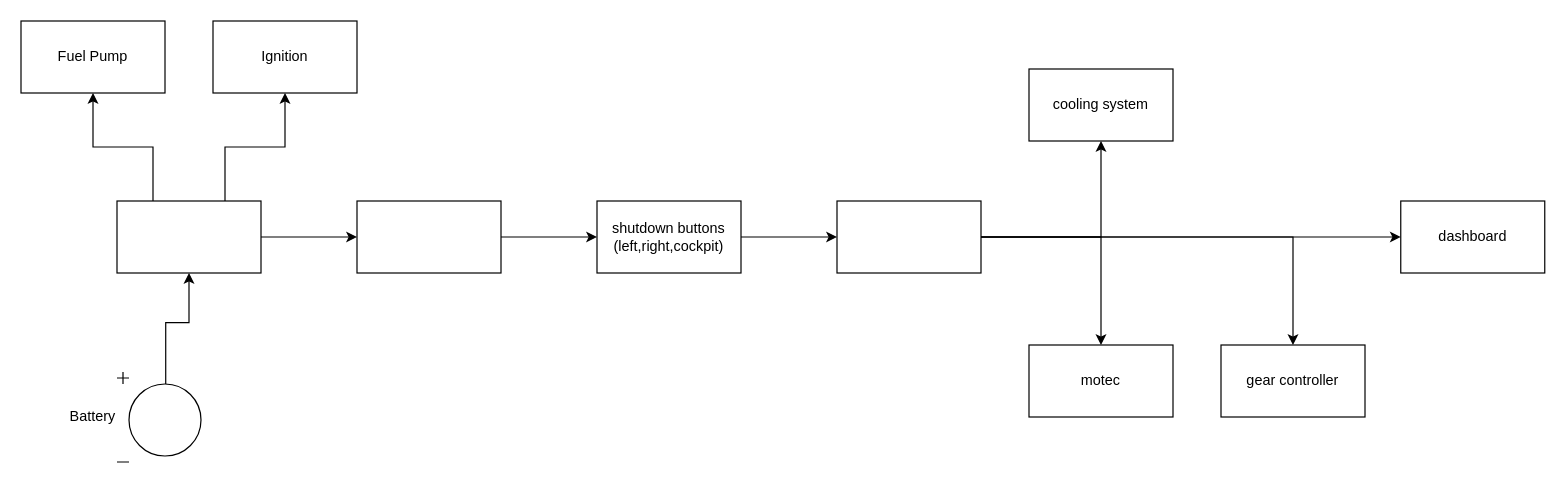
This 1566x484 diagram has some shape labels left out. The centre of each missing label's shape, as x and y in pixels:
BOTS: point (908, 236)
BSPD: point (428, 236)
LVMS: point (188, 236)
